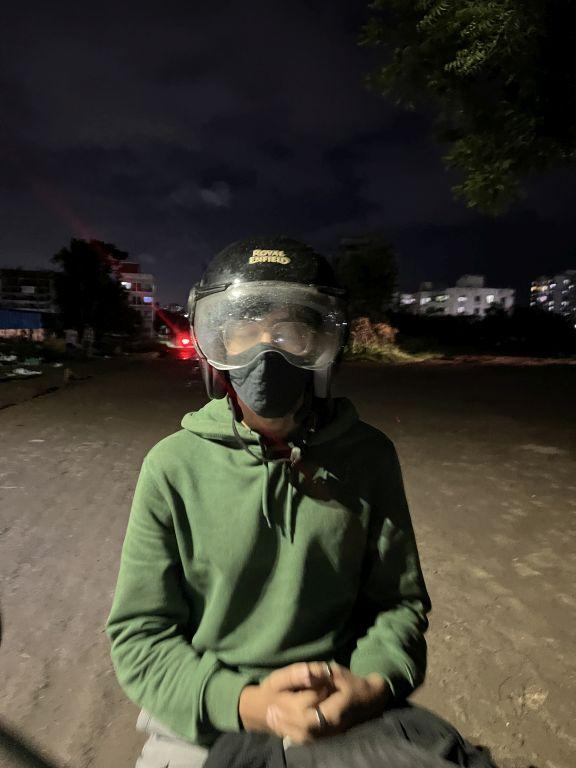helmet: (179, 229, 364, 434)
